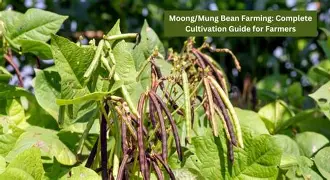crops: (0, 2, 324, 179)
